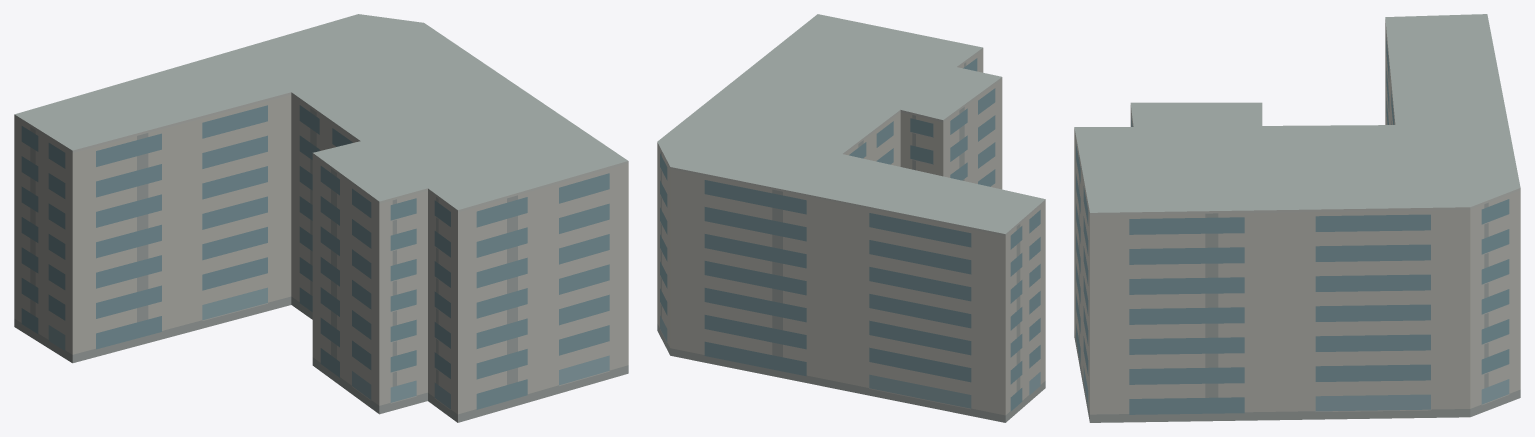
Rendered from residential-299db5f3-5a06-47e9-8582-45948df7b182.glb.
3 renders of one model, left to right at view 1: azimuth 30°, elevation 25°; view 2: azimuth 150°, elevation 25°; view 3: azimuth 270°, elevation 25°, orthographic. The views are drawn at different scales.
Visible parts, largest first — view 1: residential-299db5f3-5a06-47e9-8582-45948df7b182.tmp; view 2: residential-299db5f3-5a06-47e9-8582-45948df7b182.tmp; view 3: residential-299db5f3-5a06-47e9-8582-45948df7b182.tmp.
Part boxes in pixels (x1,y1,x2,y2): residential-299db5f3-5a06-47e9-8582-45948df7b182.tmp: [14, 14, 628, 422]; residential-299db5f3-5a06-47e9-8582-45948df7b182.tmp: [657, 14, 1045, 422]; residential-299db5f3-5a06-47e9-8582-45948df7b182.tmp: [1074, 14, 1520, 422].
Size of the model in its own units: 43.38 by 21.35 by 41.12.
